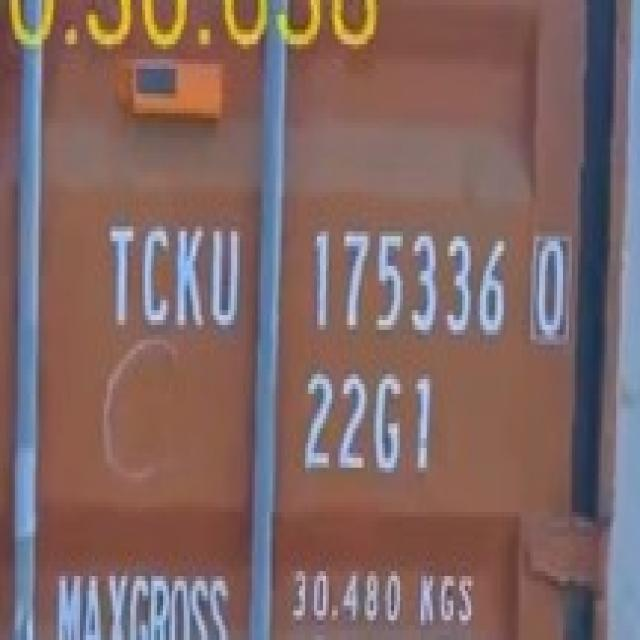dv: (522, 225, 579, 356)
owner: (100, 213, 245, 338)
serial: (301, 216, 511, 353)
size: (296, 357, 436, 488)
